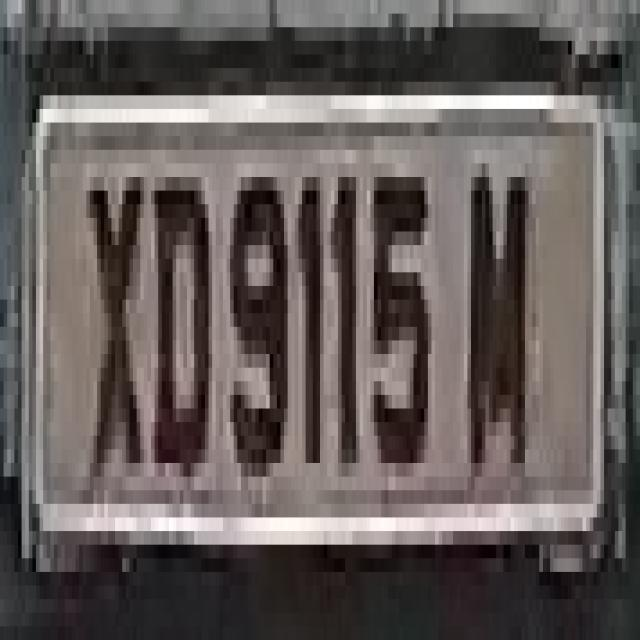1: (331, 109, 367, 531), (298, 109, 324, 504)
5: (363, 109, 435, 490)
9: (219, 136, 295, 490)
D: (148, 150, 208, 517)
M: (456, 136, 536, 531)
X: (90, 123, 147, 531)
